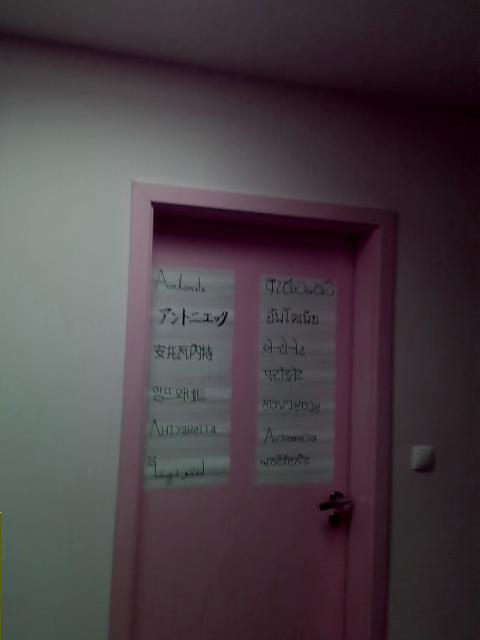closed_door: (109, 179, 399, 639)
